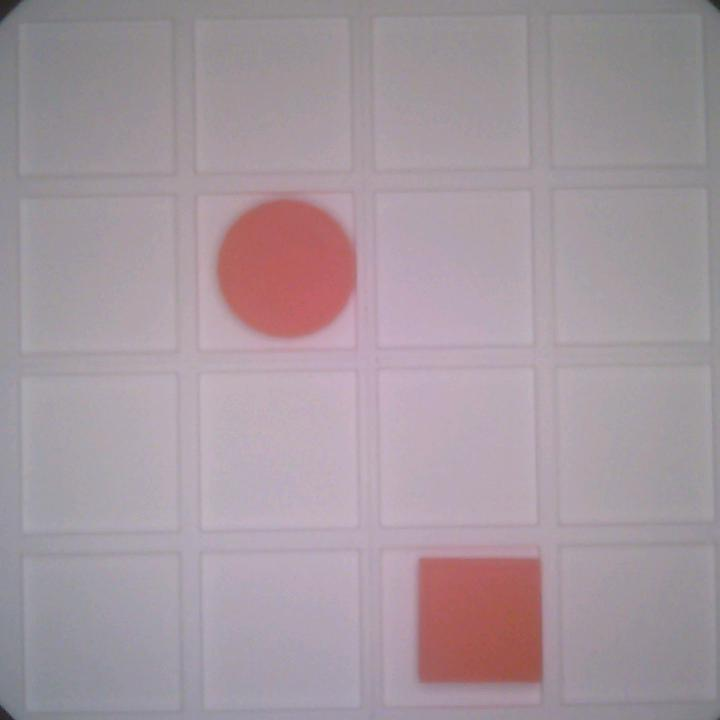Orange circle: (215, 195, 354, 342)
Orange square: (410, 553, 547, 691)
